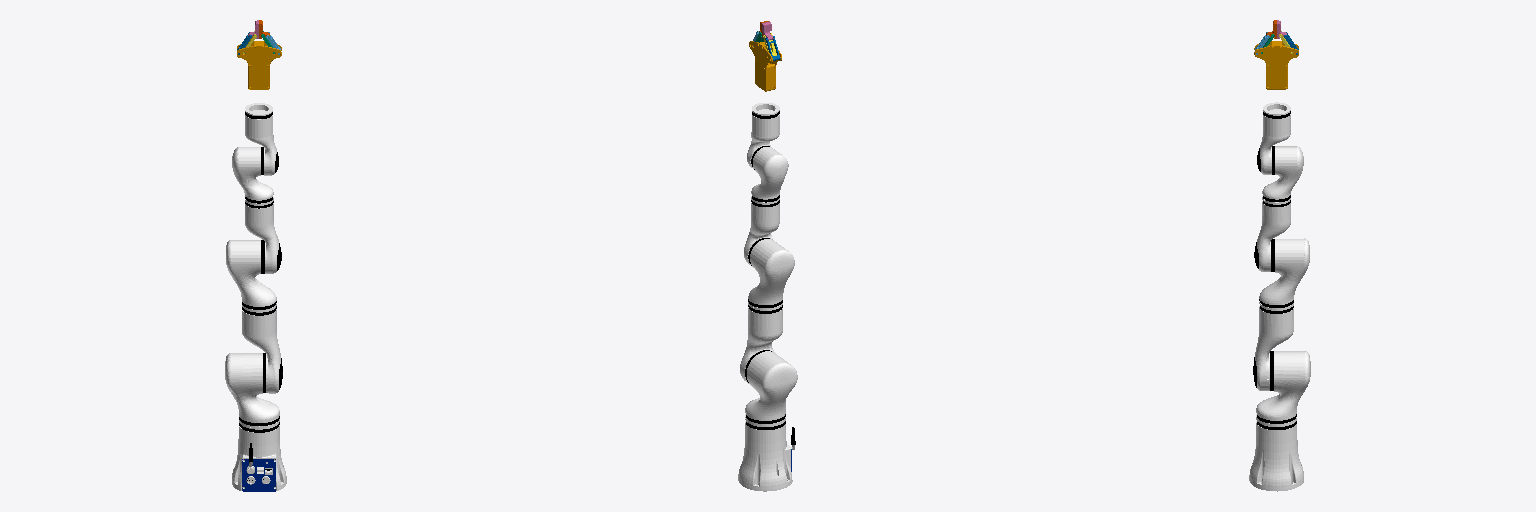
robot.urdf — rm65:
<?xml version="1.0" ?>
<!-- =================================================================================== -->
<!-- |    This document was autogenerated by xacro from robot.xacro                    | -->
<!-- |    EDITING THIS FILE BY HAND IS NOT RECOMMENDED                                 | -->
<!-- =================================================================================== -->
<robot name="rm65">
  <link name="base_link">
    <inertial>
      <origin xyz="-0.00049840293879996 -5.19350047653785E-05 0.0600202841321701"/>
      <mass value="0.838885281114303"/>
      <inertia ixx="0.00172321229549441" ixy="3.09076898315635E-06" ixz="-3.7922126488402E-05" iyy="0.00170514762495823" iyz="1.38793642017112E-06" izz="0.000901589030906685"/>
    </inertial>
    <visual>
      <geometry>
        <mesh filename="package://rm65_description/meshes/base_link.dae"/>
      </geometry>
    </visual>
    <collision>
      <geometry>
        <mesh filename="package://rm65_description/meshes/base_link.dae"/>
      </geometry>
    </collision>
  </link>
  <link name="link1">
    <inertial>
      <origin xyz="-2.9675E-07 0.021107 -0.025188"/>
      <mass value="0.59353"/>
      <inertia ixx="0.0012661" ixy="-5.363E-09" ixz="-2.109E-09" iyy="0.0011816" iyz="-0.00021118" izz="0.00056131"/>
    </inertial>
    <visual>
      <geometry>
        <mesh filename="package://rm65_description/meshes/link1.dae"/>
      </geometry>
    </visual>
    <collision>
      <geometry>
        <mesh filename="package://rm65_description/meshes/link1.dae"/>
      </geometry>
    </collision>
  </link>
  <link name="link2">
    <inertial>
      <origin xyz="0.15226 2.3916E-07 -0.0062027"/>
      <mass value="0.86416"/>
      <inertia ixx="0.00063253" ixy="2.0103E-09" ixz="0.00042162" iyy="0.0020527" iyz="3.5857E-09" izz="0.0019528"/>
    </inertial>
    <visual>
      <geometry>
        <mesh filename="package://rm65_description/meshes/link2.dae"/>
      </geometry>
    </visual>
    <collision>
      <geometry>
        <mesh filename="package://rm65_description/meshes/link2.dae"/>
      </geometry>
    </collision>
  </link>
  <link name="link3">
    <inertial>
      <origin xyz="4.7194E-06 -0.059592 0.010268"/>
      <mass value="0.28963"/>
      <inertia ixx="0.00063737" ixy="-6.2601E-08" ixz="-3.5046E-08" iyy="0.00015649" iyz="-0.00014461" izz="0.00061418"/>
    </inertial>
    <visual>
      <geometry>
        <mesh filename="package://rm65_description/meshes/link3.dae"/>
      </geometry>
    </visual>
    <collision>
      <geometry>
        <mesh filename="package://rm65_description/meshes/link3.dae"/>
      </geometry>
    </collision>
  </link>
  <link name="link4">
    <inertial>
      <origin xyz="2.9186E-07 -0.018042 -0.02154"/>
      <mass value="0.23942"/>
      <inertia ixx="0.00028595" ixy="-2.3562E-09" ixz="1.3938E-09" iyy="0.00026273" iyz="4.424E-05" izz="0.0001199"/>
    </inertial>
    <visual>
      <geometry>
        <mesh filename="package://rm65_description/meshes/link4.dae"/>
      </geometry>
    </visual>
    <collision>
      <geometry>
        <mesh filename="package://rm65_description/meshes/link4.dae"/>
      </geometry>
    </collision>
  </link>
  <link name="link5">
    <inertial>
      <origin xyz="4.2301E-06 -0.059381 0.0070671"/>
      <mass value="0.21879"/>
      <inertia ixx="0.00035053" ixy="-2.8554E-08" ixz="-1.67E-08" iyy="0.00010492" iyz="-7.824E-05" izz="0.00033447"/>
    </inertial>
    <visual>
      <geometry>
        <mesh filename="package://rm65_description/meshes/link5.dae"/>
      </geometry>
    </visual>
    <collision>
      <geometry>
        <mesh filename="package://rm65_description/meshes/link5.dae"/>
      </geometry>
    </collision>
  </link>
  <link name="link6">
    <inertial>
      <origin xyz="0.028764 -5.1529E-06 0.025085"/>
      <mass value="0.22147"/>
      <inertia ixx="0.0001376" ixy="-5.7488E-08" ixz="-1.6634E-05" iyy="0.00026855" iyz="1.7799E-08" izz="0.00035277"/>
    </inertial>
    <visual>
      <geometry>
        <mesh filename="package://rm65_description/meshes/link6.obj"/>
      </geometry>
    </visual>
    <collision>
      <geometry>
        <mesh filename="package://rm65_description/meshes/link6.obj"/>
      </geometry>
    </collision>
  </link>
  <joint name="joint1" type="revolute">
    <origin xyz="0 0 0.2405"/>
    <parent link="base_link"/>
    <child link="link1"/>
    <axis xyz="0 0 1"/>
    <limit effort="60" lower="-3.11" upper="3.11" velocity="3.14"/>
  </joint>
  <joint name="joint2" type="revolute">
    <origin rpy="1.5708 -1.5708 0" xyz="0 0 0"/>
    <parent link="link1"/>
    <child link="link2"/>
    <axis xyz="0 0 1"/>
    <limit effort="60" lower="-2.27" upper="2.27" velocity="3.14"/>
  </joint>
  <joint name="joint3" type="revolute">
    <origin rpy="0 0 1.5708" xyz="0.256 0 0"/>
    <parent link="link2"/>
    <child link="link3"/>
    <axis xyz="0 0 1"/>
    <limit effort="30" lower="-2.36" upper="2.36" velocity="3.925"/>
  </joint>
  <joint name="joint4" type="revolute">
    <origin rpy="1.5708 0 0" xyz="0 -0.21 -0.00030007"/>
    <parent link="link3"/>
    <child link="link4"/>
    <axis xyz="0 0 1"/>
    <limit effort="10" lower="-3.11" upper="3.11" velocity="3.925"/>
  </joint>
  <joint name="joint5" type="revolute">
    <origin rpy="-1.5708 0 0" xyz="0 0 0"/>
    <parent link="link4"/>
    <child link="link5"/>
    <axis xyz="0 0 1"/>
    <limit effort="10" lower="-2.23" upper="2.23" velocity="3.925"/>
  </joint>
  <joint name="joint6" type="revolute">
    <origin rpy="-1.5708 0 0" xyz="0 -0.115 0"/>
    <parent link="link5"/>
    <child link="link6"/>
    <axis xyz="0 0 -1"/>
    <limit effort="10" lower="-6.28" upper="6.28" velocity="3.925"/>
  </joint>
  <link name="gripper_plate">
    <visual>
      <geometry>
        <mesh filename="package://rm65_description/meshes/gripper_plate.obj"/>
      </geometry>
    </visual>
    <collision>
      <geometry>
        <mesh filename="package://rm65_description/meshes/gripper_plate.obj"/>
      </geometry>
    </collision>
  </link>
  <joint name="ee_joint" type="fixed">
    <origin rpy="3.14159 0 1.5708" xyz="0 0 -0.043"/>
    <parent link="link6"/>
    <child link="gripper_plate"/>
  </joint>
  <link name="gripper_base">
    <inertial>
      <origin xyz="1.5645E-05 -4.1838E-06 0.038"/>
      <mass value="0.072633"/>
      <inertia ixx="5.095E-05" ixy="-7.3167E-13" ixz="2.0229E-08" iyy="6.0883E-05" iyz="-4.5583E-09" izz="1.933E-05"/>
    </inertial>
    <visual>
      <geometry>
        <mesh filename="package://inspire_description/meshes/EG2-4C2/baselink.obj"/>
      </geometry>
    </visual>
    <collision>
      <geometry>
        <mesh filename="package://inspire_description/meshes/EG2-4C2/baselink.obj"/>
      </geometry>
    </collision>
  </link>
  <link name="left_outer_link">
    <inertial>
      <origin xyz="0.0087669 0.009 0.013992"/>
      <mass value="0.0024292"/>
      <inertia ixx="5.1061E-07" ixy="-8.6739E-19" ixz="-2.508E-07" iyy="5.7398E-07" iyz="-1.3667E-18" izz="2.6747E-07"/>
    </inertial>
    <visual>
      <geometry>
        <mesh filename="package://inspire_description/meshes/EG2-4C2/outer_link.obj"/>
      </geometry>
    </visual>
    <collision>
      <geometry>
        <mesh filename="package://inspire_description/meshes/EG2-4C2/outer_link.obj"/>
      </geometry>
    </collision>
  </link>
  <joint name="gripper_joint" type="revolute">
    <origin xyz="-0.04 -0.009 0.079"/>
    <parent link="gripper_base"/>
    <child link="left_outer_link"/>
    <axis xyz="0 -1 0"/>
    <limit effort="1" lower="0" upper="0.82" velocity="1"/>
  </joint>
  <link name="left_inner_link">
    <inertial>
      <origin xyz="0.0087435 0.009 0.013955"/>
      <mass value="0.0038971"/>
      <inertia ixx="5.6941E-07" ixy="-1.0711E-18" ixz="-2.6891E-07" iyy="6.2305E-07" iyz="-1.6845E-18" izz="3.0871E-07"/>
    </inertial>
    <visual>
      <geometry>
        <mesh filename="package://inspire_description/meshes/EG2-4C2/inner_link.obj"/>
      </geometry>
    </visual>
    <collision>
      <geometry>
        <mesh filename="package://inspire_description/meshes/EG2-4C2/inner_link.obj"/>
      </geometry>
    </collision>
  </link>
  <joint name="left_inner_joint" type="revolute">
    <origin xyz="-0.03 -0.009 0.081"/>
    <parent link="gripper_base"/>
    <child link="left_inner_link"/>
    <axis xyz="0 -1 0"/>
    <limit effort="1" lower="0" upper="0.82" velocity="1"/>
    <mimic joint="gripper_joint"/>
  </joint>
  <link name="right_inner_link">
    <inertial>
      <origin xyz="-0.0087435 0.009 0.013955"/>
      <mass value="0.0038971"/>
      <inertia ixx="5.6941E-07" ixy="1.0666E-18" ixz="2.6891E-07" iyy="6.2305E-07" iyz="-1.8084E-18" izz="3.0871E-07"/>
    </inertial>
    <visual>
      <geometry>
        <mesh filename="package://inspire_description/meshes/EG2-4C2/inner_link.obj" scale="-1 1 1"/>
      </geometry>
    </visual>
    <collision>
      <geometry>
        <mesh filename="package://inspire_description/meshes/EG2-4C2/inner_link.obj" scale="-1 1 1"/>
      </geometry>
    </collision>
  </link>
  <joint name="right_inner_joint" type="revolute">
    <origin xyz="0.03 -0.009 0.081"/>
    <parent link="gripper_base"/>
    <child link="right_inner_link"/>
    <axis xyz="0 -1 0"/>
    <limit effort="1" lower="-0.82" upper="0" velocity="1"/>
    <mimic joint="gripper_joint" multiplier="-1" offset="0"/>
  </joint>
  <link name="right_outer_link">
    <inertial>
      <origin xyz="-0.0087669 0.009 0.013992"/>
      <mass value="0.0024292"/>
      <inertia ixx="5.1061E-07" ixy="-9.5279E-19" ixz="2.508E-07" iyy="5.7398E-07" iyz="7.6863E-19" izz="2.6747E-07"/>
    </inertial>
    <visual>
      <geometry>
        <mesh filename="package://inspire_description/meshes/EG2-4C2/outer_link.obj" scale="-1 1 1"/>
      </geometry>
    </visual>
    <collision>
      <geometry>
        <mesh filename="package://inspire_description/meshes/EG2-4C2/outer_link.obj" scale="-1 1 1"/>
      </geometry>
    </collision>
  </link>
  <joint name="right_outer_joint" type="revolute">
    <origin xyz="0.04 -0.009 0.079"/>
    <parent link="gripper_base"/>
    <child link="right_outer_link"/>
    <axis xyz="0 -1 0"/>
    <limit effort="1" lower="-0.82" upper="0" velocity="1"/>
    <mimic joint="gripper_joint" multiplier="-1" offset="0"/>
  </joint>
  <link name="left_pad">
    <inertial>
      <origin xyz="0.011864 0.006 0.011367"/>
      <mass value="0.0045068"/>
      <inertia ixx="5.1288E-07" ixy="-9.8137E-14" ixz="-9.4703E-08" iyy="5.3203E-07" iyz="-6.212E-14" izz="2.009E-07"/>
    </inertial>
    <visual>
      <geometry>
        <mesh filename="package://inspire_description/meshes/EG2-4C2/pad.obj"/>
      </geometry>
    </visual>
    <collision>
      <geometry>
        <mesh filename="package://inspire_description/meshes/EG2-4C2/pad.obj"/>
      </geometry>
    </collision>
  </link>
  <joint name="left_pad_joint" type="revolute">
    <origin xyz="0.0223 0.003 0.035591"/>
    <parent link="left_outer_link"/>
    <child link="left_pad"/>
    <axis xyz="0 1 0"/>
    <limit effort="1" lower="0" upper="0.82" velocity="1"/>
    <mimic joint="gripper_joint"/>
  </joint>
  <link name="right_pad">
    <inertial>
      <origin xyz="-0.011864 0.006 0.011367"/>
      <mass value="0.0045068"/>
      <inertia ixx="5.1288E-07" ixy="-9.8137E-14" ixz="9.4703E-08" iyy="5.3203E-07" iyz="6.2119E-14" izz="2.009E-07"/>
    </inertial>
    <visual>
      <geometry>
        <mesh filename="package://inspire_description/meshes/EG2-4C2/pad.obj" scale="-1 1 1"/>
      </geometry>
    </visual>
    <collision>
      <geometry>
        <mesh filename="package://inspire_description/meshes/EG2-4C2/pad.obj" scale="-1 1 1"/>
      </geometry>
    </collision>
  </link>
  <joint name="right_pad_joint" type="revolute">
    <origin xyz="-0.0223 0.003 0.035591"/>
    <parent link="right_outer_link"/>
    <child link="right_pad"/>
    <axis xyz="0 -1 0"/>
    <limit effort="1" lower="0" upper="0.82" velocity="1"/>
    <mimic joint="gripper_joint"/>
  </joint>
  <joint name="gripper_base_joint" type="fixed">
    <origin xyz="0 0 0.0043"/>
    <parent link="gripper_plate"/>
    <child link="gripper_base"/>
  </joint>
</robot>

--- What the picture shows (computed from the rendered views, not written in the file) ---
Views: 3 orthographic renders of the robot side by side, from view 1: azimuth 90°, elevation 25°; view 2: azimuth 210°, elevation 25°; view 3: azimuth 270°, elevation 25°.
Robot: rm65 — 15 links, 14 joints (12 revolute, 2 fixed); root link base_link; default pose: every joint at zero.
Links seen in each view (by area): view 1: link2, base_link, link1, link4, link5, link3, gripper_base; view 2: link2, base_link, link1, link4, link5, link3, gripper_base; view 3: link2, base_link, link1, link4, link5, link3, gripper_base.
Boxes of the visible links, <box> form: link2: <box>226,240,282,393</box>; base_link: <box>232,421,286,491</box>; link1: <box>225,353,279,427</box>; link4: <box>232,147,273,203</box>; link5: <box>245,103,278,175</box>; link3: <box>245,199,281,273</box>; gripper_base: <box>237,41,281,89</box>; link2: <box>740,237,794,383</box>; base_link: <box>738,418,795,491</box>; link1: <box>744,349,797,425</box>; link4: <box>750,145,788,202</box>; link5: <box>747,103,779,167</box>; link3: <box>744,198,779,264</box>; gripper_base: <box>749,41,781,91</box>; link2: <box>1253,238,1309,390</box>; base_link: <box>1249,418,1303,491</box>; link1: <box>1256,351,1310,425</box>; link4: <box>1262,146,1303,202</box>; link5: <box>1257,102,1290,174</box>; link3: <box>1254,198,1290,271</box>; gripper_base: <box>1254,41,1298,89</box>.
Size in the robot's own frame: 0.1143 by 0.123 by 1.01 metres.
13 mesh visuals loaded from 12 distinct referenced files (6 Collada DAE, 4 OBJ); not drawn: 2 (reference not matched to a file when rendering).
